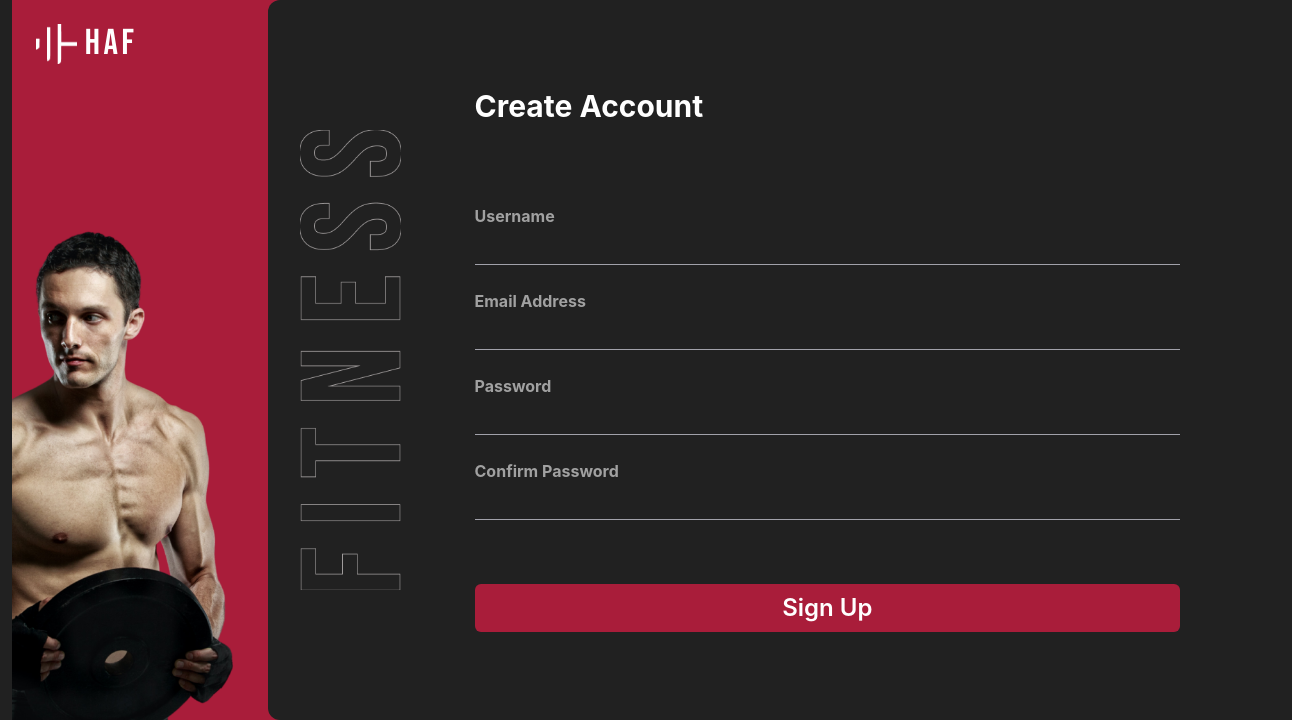
Test: Signup Page › should show error message for missing information
In the field labelled "Email Address": (827, 334) x1=474 y1=317 x2=1180 y2=350, type "email@gmail.com"
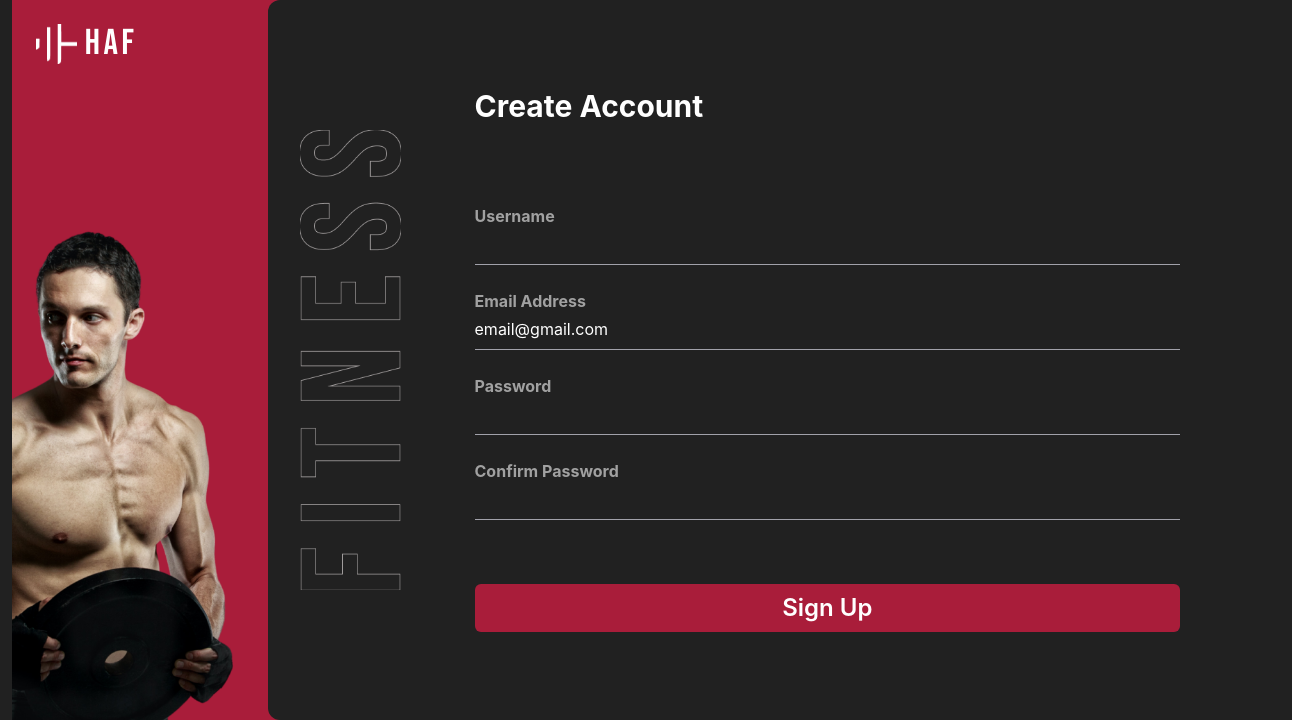
Click the button "Sign Up": (827, 608) x1=474 y1=584 x2=1180 y2=632
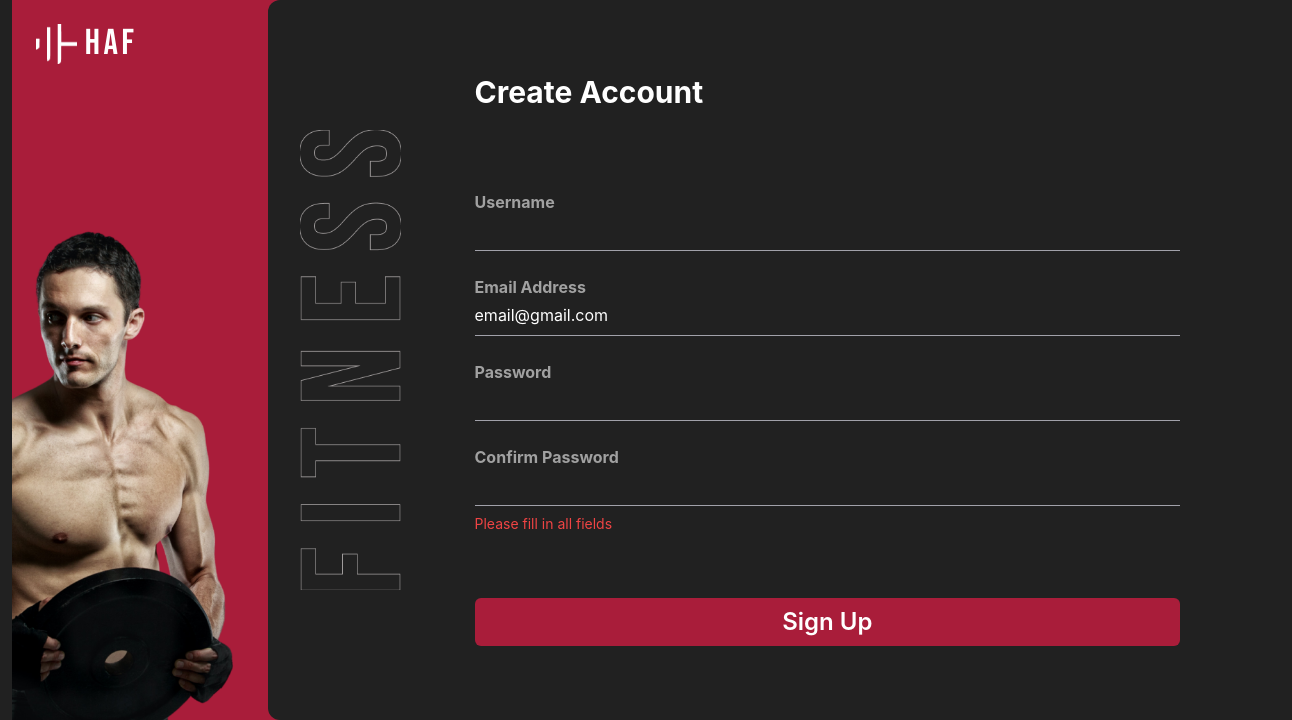
Expected: the text "Please fill in all fields" is shown, x1=474 y1=515 x2=612 y2=532
